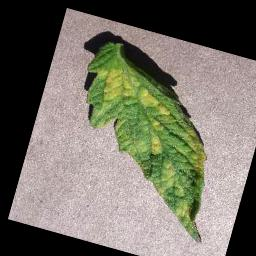Leaf_Mold: (50, 38, 247, 243)
